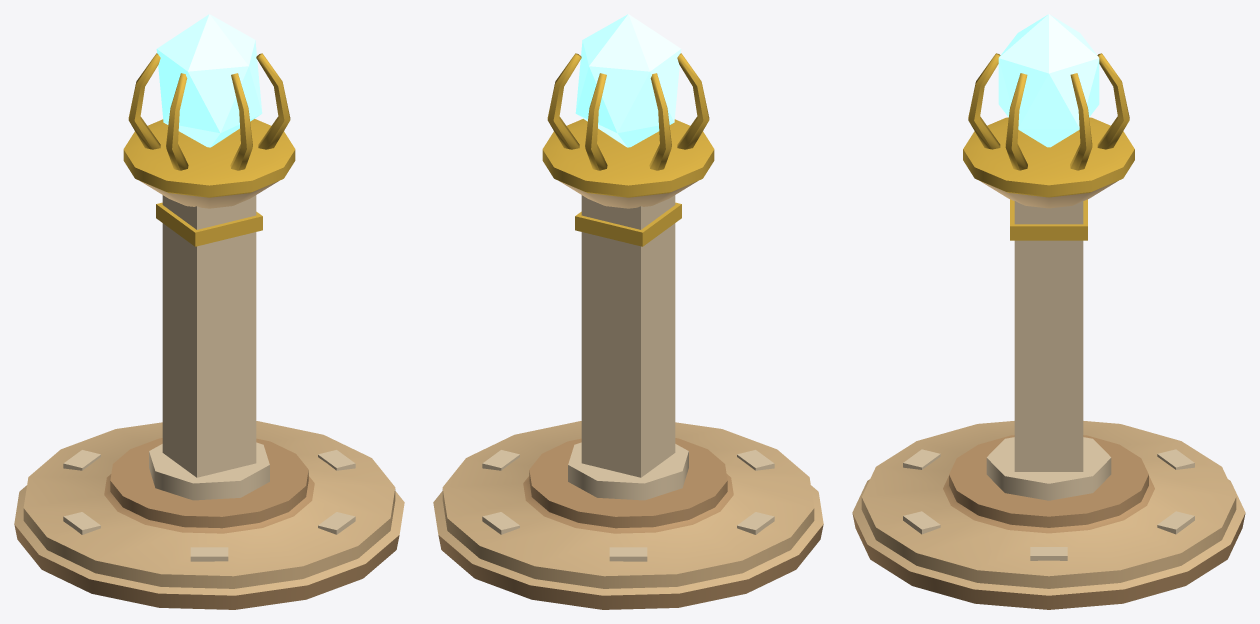
Rendered from bloom-relay.lod1.glb.
The picture shows the model from 3 angles, left to right: view 1: azimuth 30°, elevation 25°; view 2: azimuth 150°, elevation 25°; view 3: azimuth 270°, elevation 25°; orthographic projection.
Parts seen in each view (by area): view 1: bloom-relay_lod1; view 2: bloom-relay_lod1; view 3: bloom-relay_lod1.
Boxes of the visible parts, left/top/right/bottom form: bloom-relay_lod1: left=14, top=14, right=404, bottom=609; bloom-relay_lod1: left=433, top=14, right=823, bottom=609; bloom-relay_lod1: left=852, top=14, right=1245, bottom=609.
Size of the model in its own units: 1.26 by 1.82 by 1.26.
